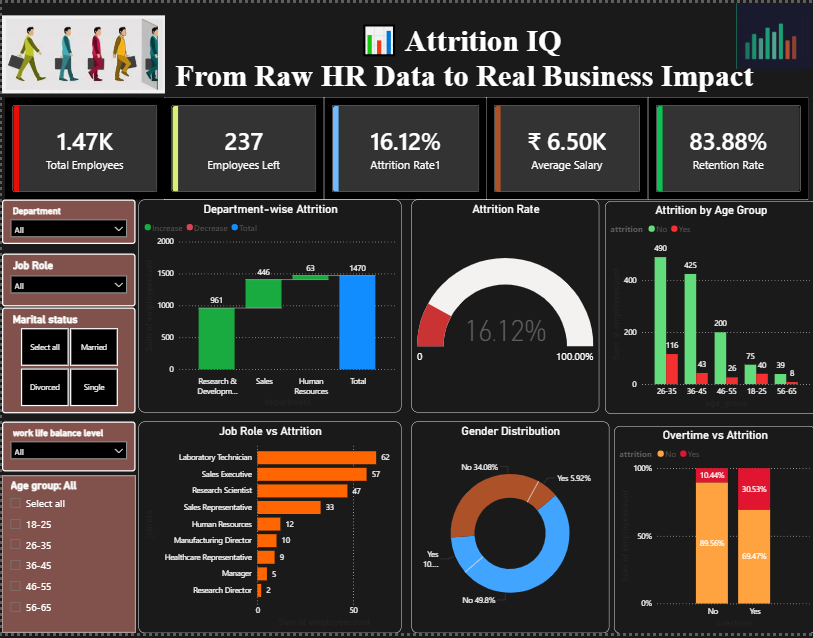

This screenshot's page, from the dashboard's own definition file:
{"tool":"powerbi","page":{"name":"Page 1","canvas":[1300,1000],"ordinal":0},"visuals":[{"type":"cardVisual","fields":{"Data":["hr_attrition_cleaned_data.Total Employees"]},"box":[3.8,149.3,253.2,162.5],"z":0},{"type":"textbox","box":[215.4,18.9,1039.4,130.4],"z":1000},{"type":"cardVisual","fields":{"Data":["hr_attrition_cleaned_data.Attrition Count"]},"box":[257,149.3,253.2,162.5],"z":3000},{"type":"cardVisual","fields":{"Data":["hr_attrition_cleaned_data.Attrition Rate"]},"box":[512.1,149.3,257,162.5],"z":4000},{"type":"cardVisual","fields":{"Data":["hr_attrition_cleaned_data.Average Salary"]},"box":[769.1,149.3,255.1,162.5],"z":5000},{"type":"cardVisual","fields":{"Data":["hr_attrition_cleaned_data.Retention Rate"]},"box":[1026.1,149.3,253.2,162.5],"z":6000},{"type":"waterfallChart","title":"Department-wise Attrition","fields":{"Category":["hr_attrition_cleaned_data.department"],"Y":["Sum(hr_attrition_cleaned_data.employeecount)"]},"box":[216.5,311.5,417.5,338],"z":7000},{"type":"donutChart","title":"Gender Distribution","fields":{"Y":["Sum(hr_attrition_cleaned_data.employeecount)"],"Category":["hr_attrition_cleaned_data.gender"],"Series":["hr_attrition_cleaned_data.attrition"]},"box":[649.5,665,313.7,335.8],"z":8000},{"type":"clusteredBarChart","title":"Job Role vs Attrition","fields":{"Category":["hr_attrition_cleaned_data.jobrole"],"Y":["Sum(hr_attrition_cleaned_data.employeecount)"],"Series":["hr_attrition_cleaned_data.attrition"]},"box":[216.5,665,417.5,335.8],"z":9000},{"type":"hundredPercentStackedColumnChart","title":"Overtime vs Attrition","fields":{"Series":["hr_attrition_cleaned_data.attrition"],"Y":["Sum(hr_attrition_cleaned_data.employeecount)"],"Category":["hr_attrition_cleaned_data.overtime"]},"box":[972,671.6,320.3,329.2],"z":10000},{"type":"gauge","title":"Attrition Rate","fields":{"MinValue":["hr_attrition_cleaned_data.Gauge Min"],"Y":["hr_attrition_cleaned_data.Attrition Rate1"]},"box":[649.5,311.5,298.2,338],"z":11000},{"type":"clusteredColumnChart","title":"Attrition by Age Group","fields":{"Category":["hr_attrition_cleaned_data.age_group"],"Y":["Sum(hr_attrition_cleaned_data.employeecount)"],"Series":["hr_attrition_cleaned_data.attrition"]},"box":[956.6,313.7,335.8,338],"z":12000},{"type":"slicer","fields":{"Values":["hr_attrition_cleaned_data.department"]},"box":[0,311.5,212.1,70.7],"z":13000},{"type":"slicer","fields":{"Values":["hr_attrition_cleaned_data.age_group"]},"box":[0,751.1,212.1,249.6],"z":14000},{"type":"slicer","fields":{"Values":["hr_attrition_cleaned_data.jobrole"]},"box":[0,397.7,212.1,83.9],"z":15000},{"type":"slicer","fields":{"Values":["hr_attrition_cleaned_data.maritalstatus"]},"box":[0,483.8,212.1,167.9],"z":16000},{"type":"slicer","fields":{"Values":["hr_attrition_cleaned_data.worklife_balance_level"]},"box":[0,665,212.1,79.5],"z":17000},{"type":"image","box":[1153.2,0,145.8,103.8],"z":17001},{"type":"image","box":[0,15.5,258.5,134.8],"z":17002}]}

Visuals, with their boxes in screenshot pixels (x1, y1, x2, y2), scaled from the page's 1300x1000 canvas onto the 813x638 screenshot:
cardVisual - hr_attrition_cleaned_data.Total Employees: 2:95:161:199
textbox: 135:12:785:95
cardVisual - hr_attrition_cleaned_data.Attrition Count: 161:95:319:199
cardVisual - hr_attrition_cleaned_data.Attrition Rate: 320:95:481:199
cardVisual - hr_attrition_cleaned_data.Average Salary: 481:95:641:199
cardVisual - hr_attrition_cleaned_data.Retention Rate: 642:95:800:199
"Department-wise Attrition" waterfallChart: 135:199:396:414
"Gender Distribution" donutChart: 406:424:602:637
"Job Role vs Attrition" clusteredBarChart: 135:424:396:637
"Overtime vs Attrition" hundredPercentStackedColumnChart: 608:428:808:637
"Attrition Rate" gauge: 406:199:593:414
"Attrition by Age Group" clusteredColumnChart: 598:200:808:416
slicer - hr_attrition_cleaned_data.department: 0:199:133:244
slicer - hr_attrition_cleaned_data.age_group: 0:479:133:637
slicer - hr_attrition_cleaned_data.jobrole: 0:254:133:307
slicer - hr_attrition_cleaned_data.maritalstatus: 0:309:133:416
slicer - hr_attrition_cleaned_data.worklife_balance_level: 0:424:133:475
image: 721:0:812:66
image: 0:10:162:96
